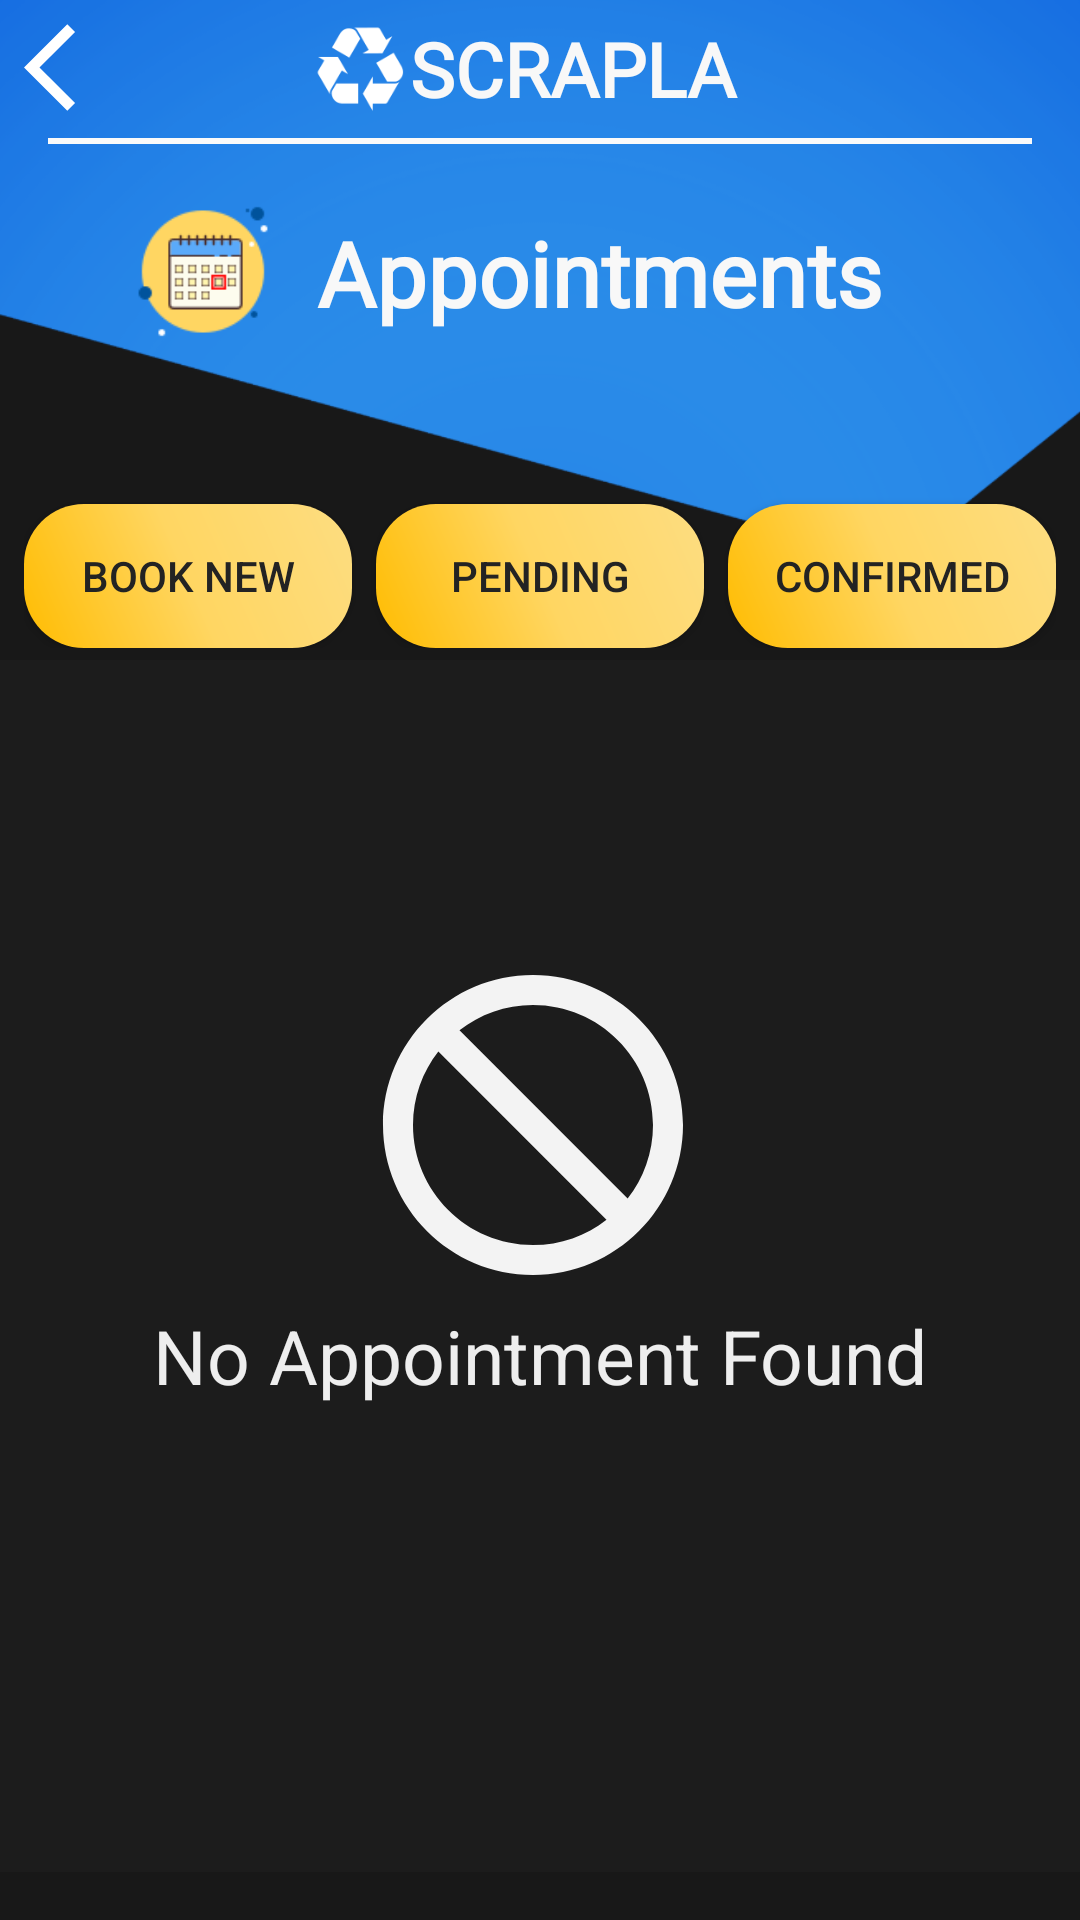

Icons on this 1080w x 1920h Android screen, each with its box as (x1, y1, x2, y2):
arrow back: (24, 24, 75, 111)
not interested: (383, 975, 683, 1275)
